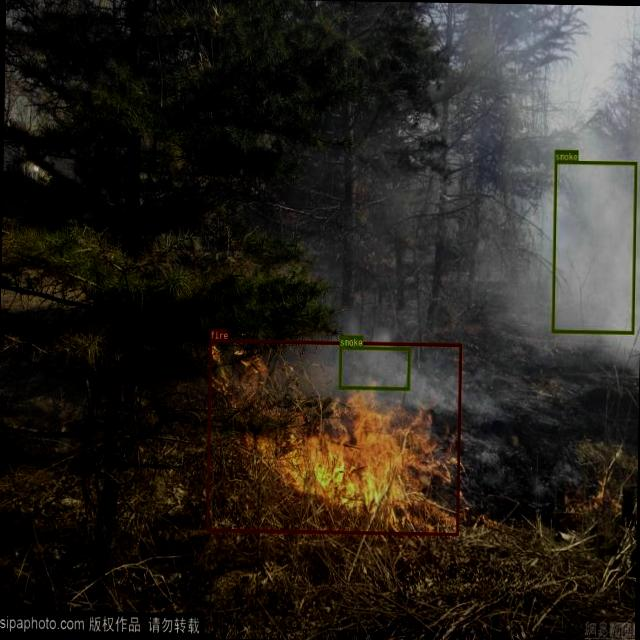fire: (205, 338, 460, 534)
smoke: (551, 160, 636, 333), (338, 346, 409, 390)
